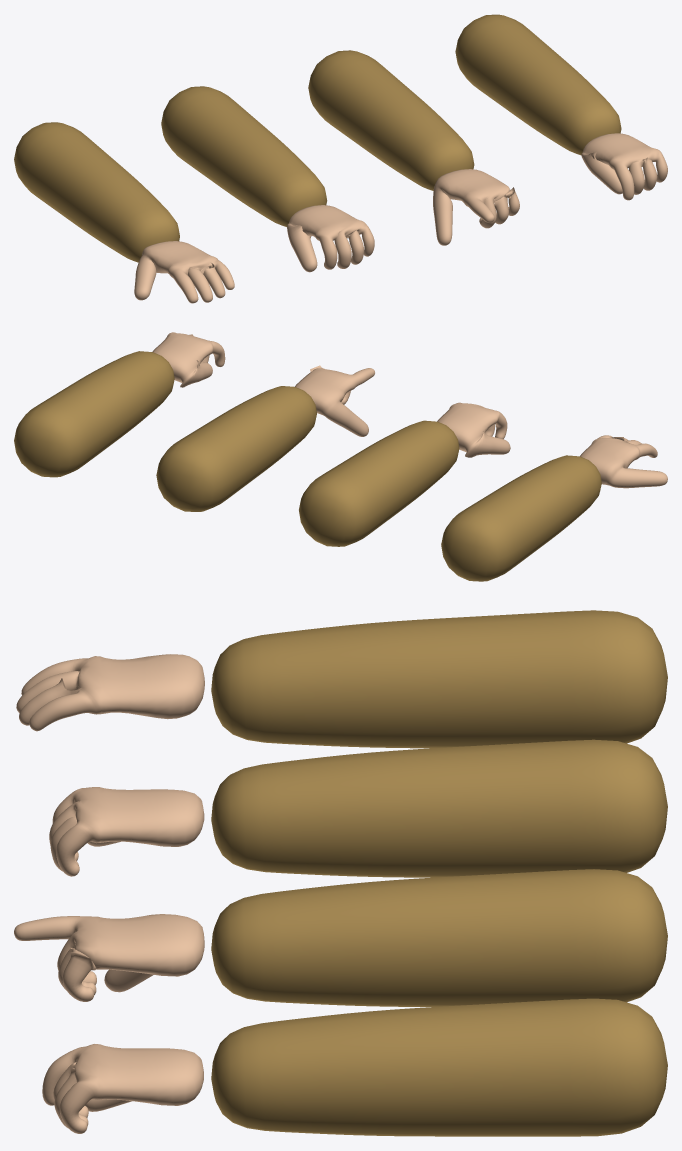
The model's file is hands.glb.
The picture shows the model from 3 angles, top to bottom: view 1: azimuth 30°, elevation 25°; view 2: azimuth 150°, elevation 25°; view 3: azimuth 270°, elevation 25°; orthographic projection. The views are drawn at different scales.
Visible parts, largest first — view 1: hand_grip, hand_relaxed, hand_pinch, hand_point; view 2: hand_relaxed, hand_point, hand_grip, hand_pinch; view 3: hand_point, hand_relaxed, hand_pinch, hand_grip.
Boxes of the visible parts, <box> form: hand_grip: <box>161,86,374,272</box>; hand_relaxed: <box>14,122,234,303</box>; hand_pinch: <box>455,14,667,200</box>; hand_point: <box>308,50,519,245</box>; hand_relaxed: <box>441,435,667,581</box>; hand_point: <box>156,365,374,511</box>; hand_grip: <box>299,402,510,546</box>; hand_pinch: <box>14,332,225,477</box>; hand_point: <box>14,869,667,1006</box>; hand_relaxed: <box>16,610,667,748</box>; hand_pinch: <box>42,998,667,1136</box>; hand_grip: <box>49,739,667,877</box>.
Bounding box in the file's own units: 0.7219 × 0.1072 × 0.4272.
